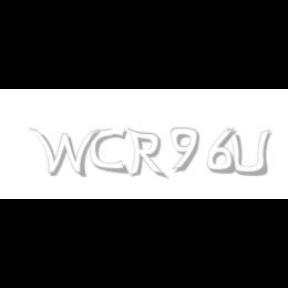6: (208, 128, 236, 176)
9: (171, 128, 200, 172)
C: (90, 128, 128, 174)
R: (127, 128, 165, 180)
U: (226, 128, 270, 178)
W: (28, 128, 100, 178)
